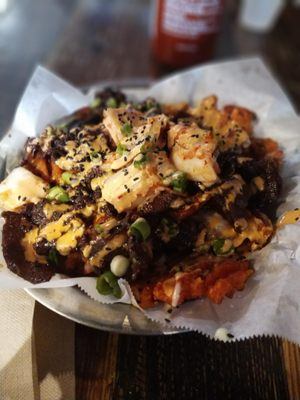pizza: (149, 0, 240, 69), (237, 0, 289, 36)
